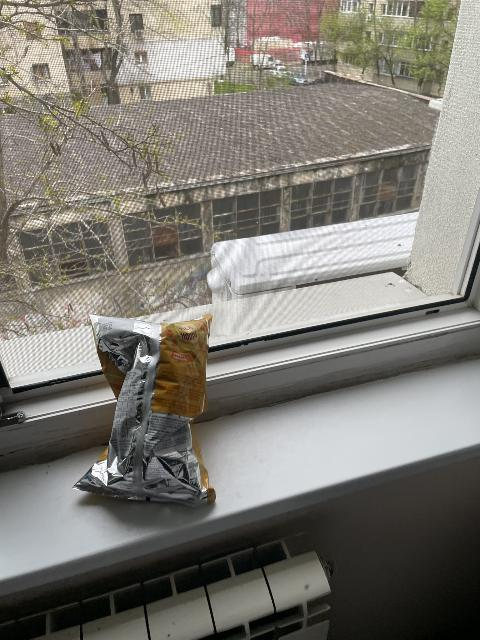Chio Hula Hoops Cheese 70g: (74, 317, 218, 505)
